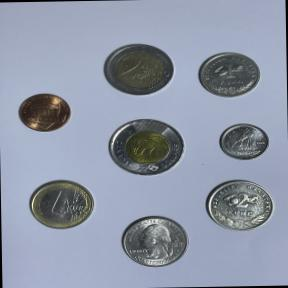1 Euro: (22, 176, 98, 234)
2 Euro: (99, 40, 178, 100)
Canda-10cent-: (216, 120, 274, 164)
Canda-2Dollar-: (102, 114, 189, 182)
Croatia-2Kune-: (200, 176, 278, 236)
US-1cent-: (15, 89, 74, 135)
US-25cent-: (118, 212, 192, 274)
